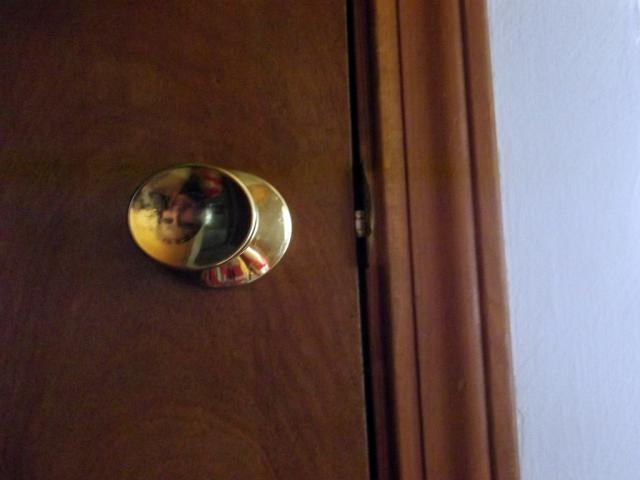Door-handle: (126, 163, 292, 288)
